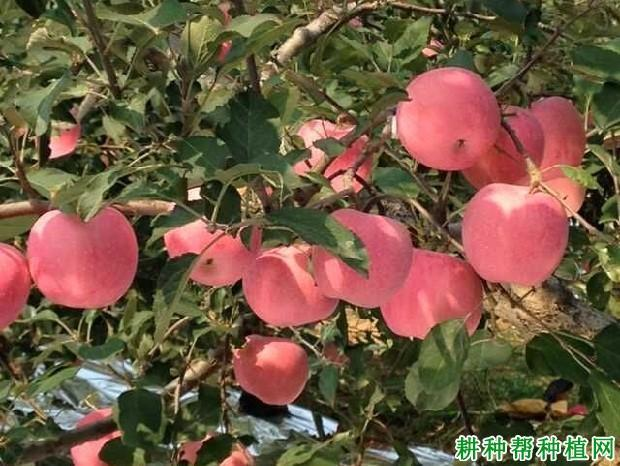apple: (394, 65, 502, 173), (22, 206, 136, 307), (461, 183, 571, 287), (312, 208, 414, 308), (164, 186, 262, 287), (378, 248, 483, 341), (240, 242, 339, 326), (461, 103, 544, 191), (231, 333, 309, 408)
